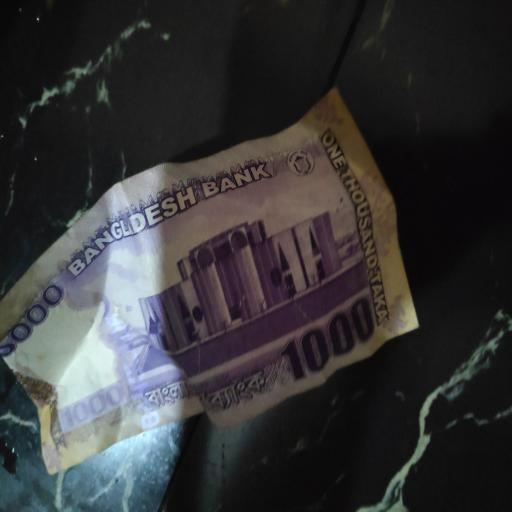1000taka: (0, 90, 420, 473)
